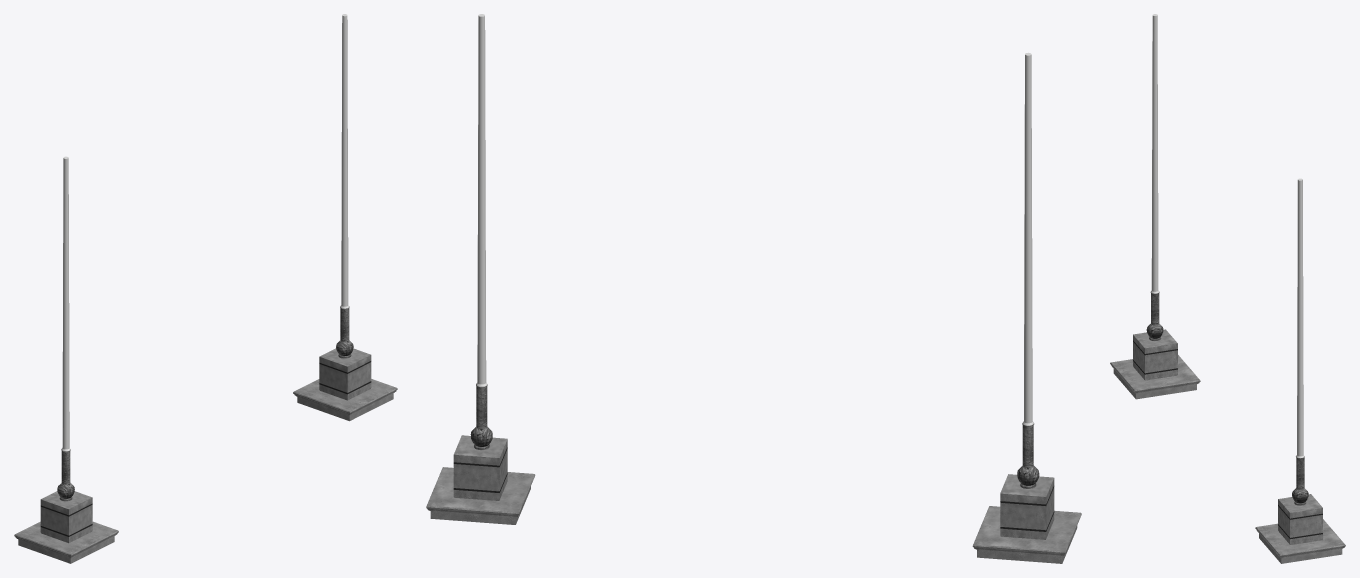
File: JRP_OLD_Flagpoles.FBX
The picture shows the model from 3 angles, left to right: view 1: azimuth 30°, elevation 25°; view 2: azimuth 150°, elevation 25°; view 3: azimuth 270°, elevation 25°; orthographic projection. The views are drawn at different scales.
Visible parts, largest first — view 1: Flag_holder_bottom_part007, Flag_holder_bottom_part006, Flag_holder_top_part006, Flag_holder_top_part007, Line172, Line174, Line173, Line171; view 2: Flag_holder_bottom_part006, Flag_holder_bottom_part007, Line174, Line172, Flag_holder_top_part006, Flag_holder_top_part007, Line171, Line173; view 3: Flag_holder_bottom_part007, Flag_holder_bottom_part006, Line174, Flag_holder_top_part007, Flag_holder_top_part006, Line172, Line171, Line173.
Part boxes in pixels (x1=…): Flag_holder_bottom_part007: x1=293, y1=379, x2=397, y2=421; Flag_holder_bottom_part006: x1=14, y1=521, x2=118, y2=563; Flag_holder_top_part006: x1=40, y1=491, x2=92, y2=543; Flag_holder_top_part007: x1=319, y1=348, x2=371, y2=400; Line172: x1=61, y1=156, x2=70, y2=451; Line174: x1=340, y1=14, x2=349, y2=308; Line173: x1=336, y1=306, x2=353, y2=358; Line171: x1=57, y1=449, x2=74, y2=501; Flag_holder_bottom_part006: x1=972, y1=506, x2=1081, y2=563; Flag_holder_bottom_part007: x1=426, y1=467, x2=535, y2=524; Line174: x1=476, y1=14, x2=487, y2=386; Line172: x1=1022, y1=52, x2=1033, y2=425; Flag_holder_top_part006: x1=1000, y1=474, x2=1054, y2=539; Flag_holder_top_part007: x1=453, y1=435, x2=507, y2=500; Line171: x1=1017, y1=423, x2=1039, y2=488; Line173: x1=470, y1=384, x2=492, y2=450; Flag_holder_bottom_part007: x1=1255, y1=519, x2=1345, y2=563; Flag_holder_bottom_part006: x1=1110, y1=355, x2=1200, y2=399; Line174: x1=1296, y1=178, x2=1304, y2=458; Flag_holder_top_part007: x1=1278, y1=494, x2=1322, y2=544; Flag_holder_top_part006: x1=1133, y1=329, x2=1177, y2=380; Line172: x1=1151, y1=14, x2=1159, y2=293; Line171: x1=1146, y1=292, x2=1163, y2=340; Line173: x1=1292, y1=456, x2=1308, y2=505.
Size of the model in its own units: 1643 by 1384 by 807.
4 materials, 2 textured.
